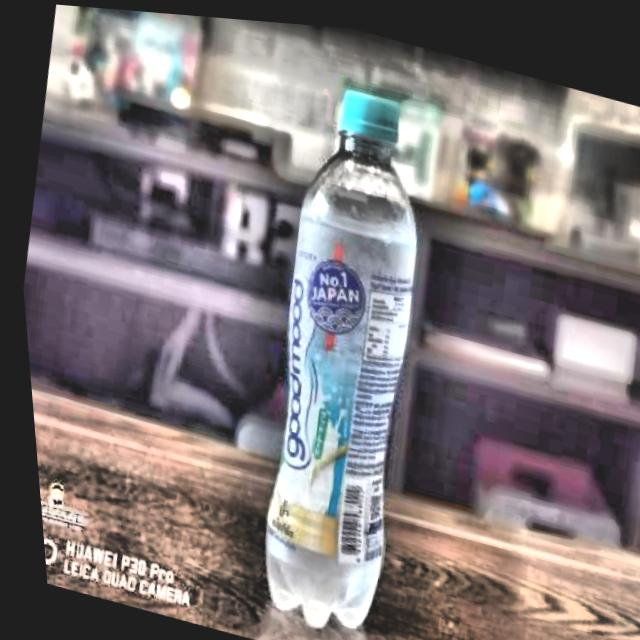Bottles: (169, 54, 505, 640)
